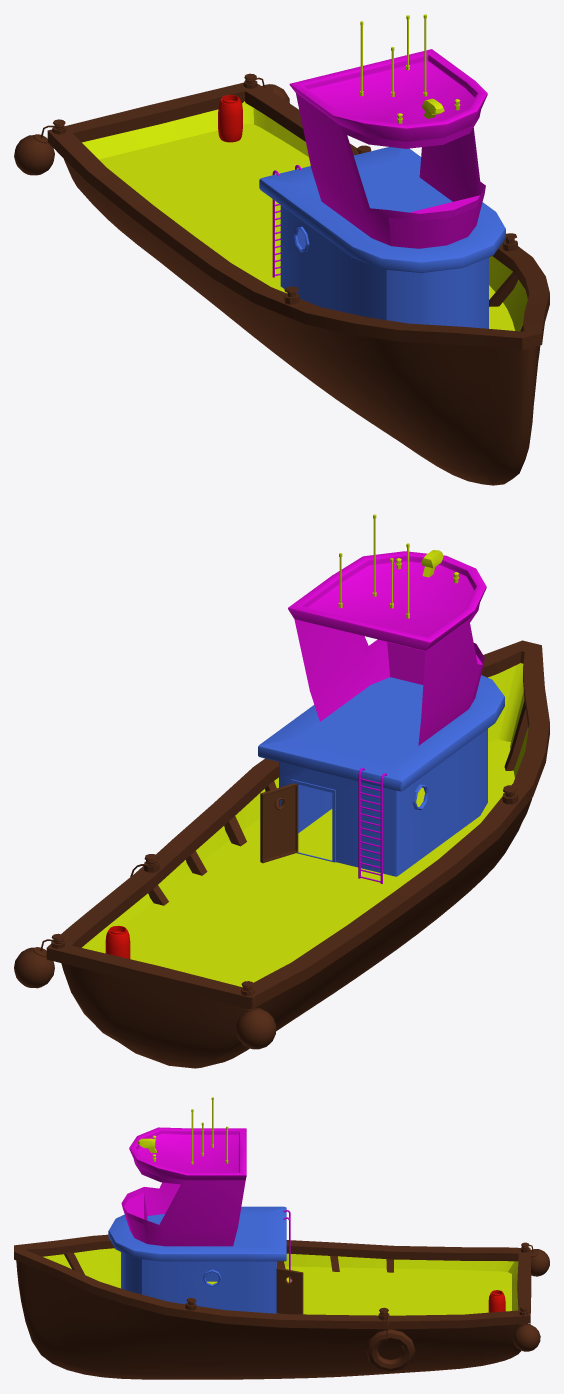
The model's file is Boat2Unwrap.fbx.
3 renders of one model, top to bottom at view 1: azimuth 30°, elevation 25°; view 2: azimuth 150°, elevation 25°; view 3: azimuth 270°, elevation 25°, orthographic. The views are drawn at different scales.
Visible parts, largest first — view 1: Boat, Engein Room, Boat Cabin, Boat Ground, Satalite, barrel; view 2: Boat, Boat Ground, Engein Room, Boat Cabin, Door, leader, Satalite, barrel; view 3: Boat, Boat Ground, Boat Cabin, Engein Room, Door, Satalite, barrel.
Part boxes in pixels (x1=…): Boat: x1=14, y1=73, x2=549, y2=485; Engein Room: x1=259, y1=147, x2=505, y2=328; Boat Cabin: x1=289, y1=49, x2=487, y2=248; Boat Ground: x1=82, y1=101, x2=527, y2=331; Satalite: x1=360, y1=14, x2=460, y2=123; barrel: x1=218, y1=94, x2=242, y2=142; Boat: x1=14, y1=640, x2=549, y2=1068; Boat Ground: x1=82, y1=663, x2=528, y2=987; Engein Room: x1=258, y1=675, x2=504, y2=876; Boat Cabin: x1=288, y1=551, x2=486, y2=745; Door: x1=260, y1=783, x2=298, y2=863; leader: x1=358, y1=767, x2=387, y2=883; Satalite: x1=338, y1=514, x2=459, y2=618; barrel: x1=105, y1=925, x2=130, y2=958; Boat: x1=14, y1=1234, x2=549, y2=1379; Boat Ground: x1=43, y1=1248, x2=518, y2=1315; Boat Cabin: x1=121, y1=1127, x2=246, y2=1246; Engein Room: x1=108, y1=1206, x2=286, y2=1313; Door: x1=276, y1=1267, x2=303, y2=1314; Satalite: x1=138, y1=1097, x2=228, y2=1164; barrel: x1=488, y1=1290, x2=505, y2=1312.
Size of the model in its own units: 934 by 1385 by 2432.
